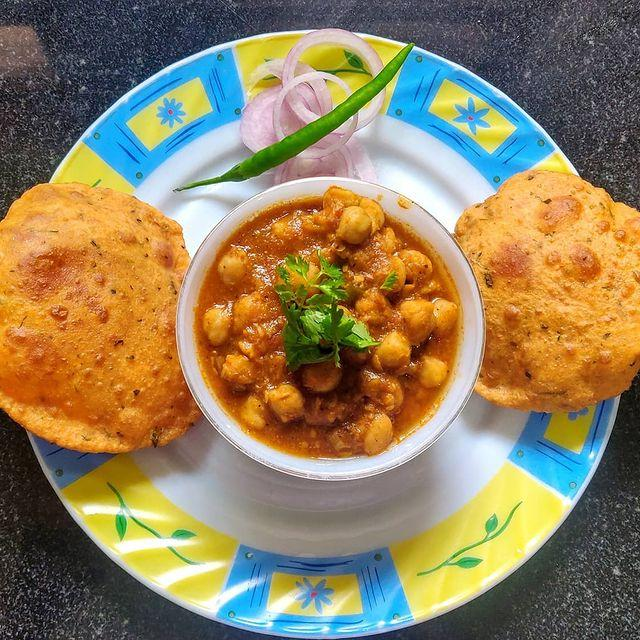Chole: (215, 186, 442, 452)
